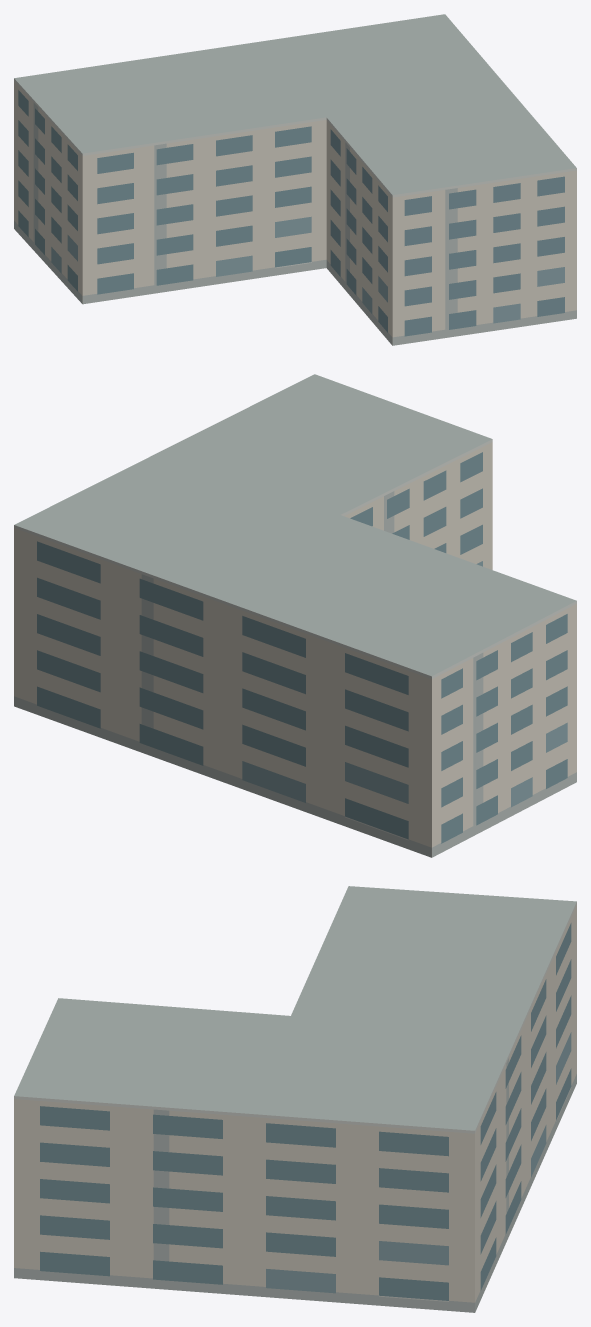
Rendered from survey-upis-32697093.glb.
The picture shows the model from 3 angles, top to bottom: view 1: azimuth 30°, elevation 25°; view 2: azimuth 150°, elevation 25°; view 3: azimuth 270°, elevation 25°; orthographic projection. The views are drawn at different scales.
Visible parts, largest first — view 1: survey-upis-32697093.tmp; view 2: survey-upis-32697093.tmp; view 3: survey-upis-32697093.tmp.
Part boxes in pixels (x1,y1,x2,y2): survey-upis-32697093.tmp: (14, 14, 576, 345); survey-upis-32697093.tmp: (14, 374, 576, 857); survey-upis-32697093.tmp: (14, 886, 576, 1312).
Size of the model in its own units: 43.97 by 15.25 by 42.74.
